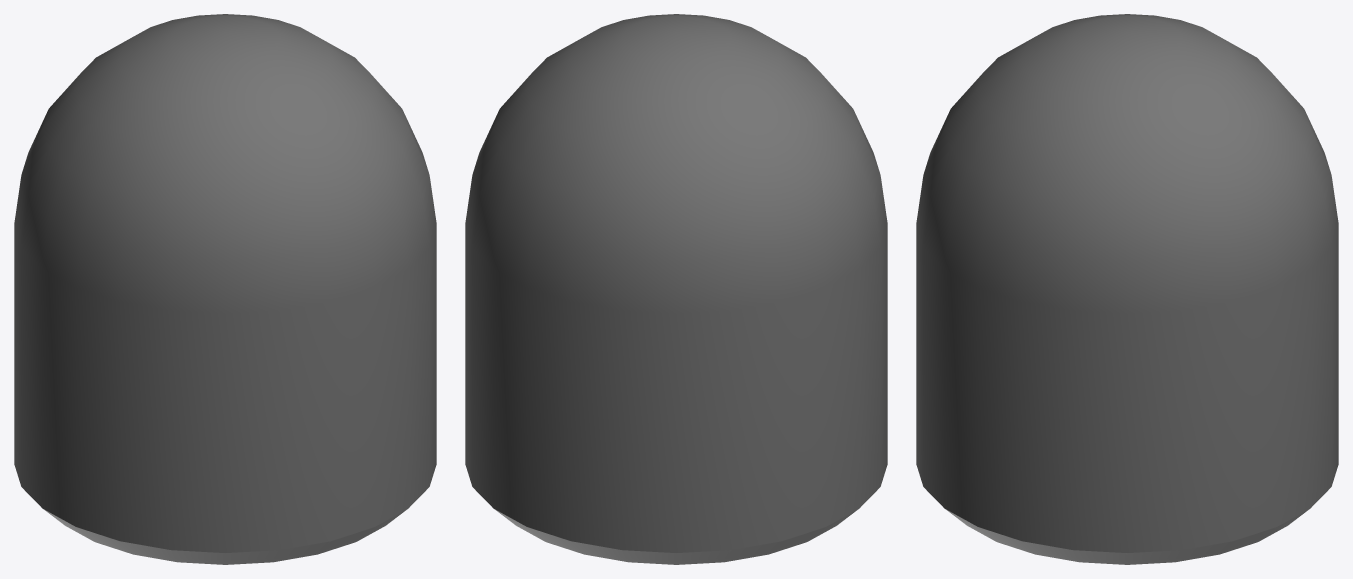
Rendered from Alnair_Control_1.obj.
The picture shows the model from 3 angles, left to right: view 1: azimuth 30°, elevation 25°; view 2: azimuth 150°, elevation 25°; view 3: azimuth 270°, elevation 25°; orthographic projection.
Parts seen in each view (by area): view 1: Alnair_Control_1; view 2: Alnair_Control_1; view 3: Alnair_Control_1.
Part boxes in pixels (x1=…): Alnair_Control_1: x1=14, y1=14, x2=436, y2=564; Alnair_Control_1: x1=465, y1=14, x2=887, y2=564; Alnair_Control_1: x1=916, y1=14, x2=1338, y2=564.
Bounding box in the file's own units: 0.5 × 0.5925 × 0.5.
